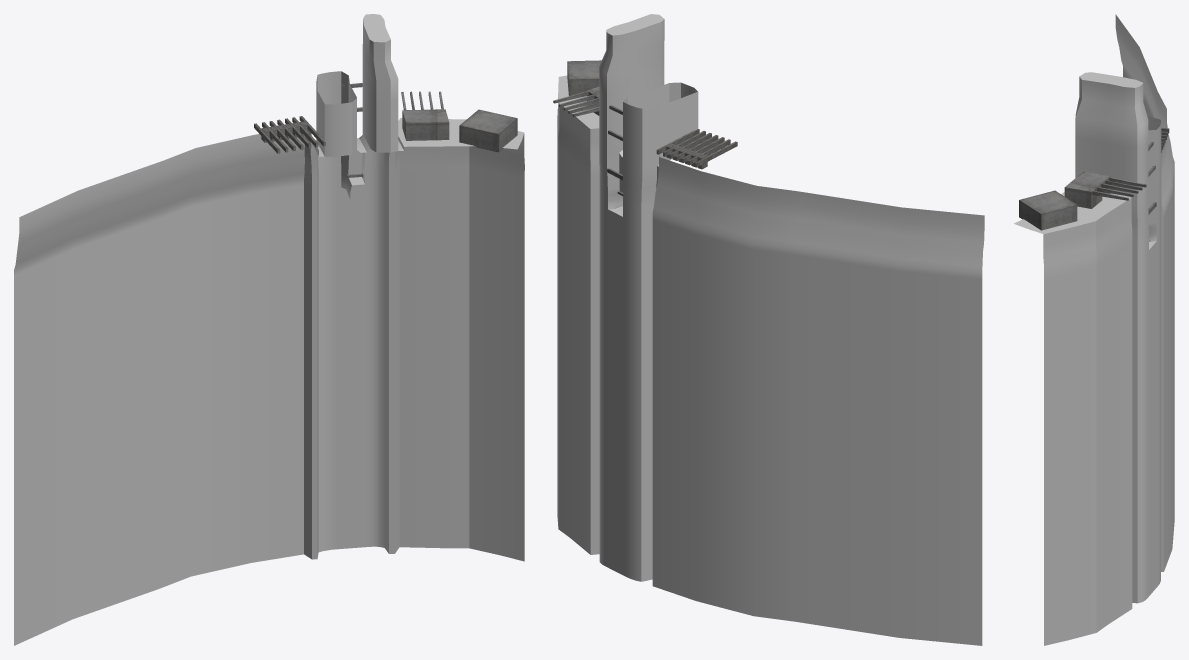
Rendered from SM_BetonDarme_01_03.fbx.
3 renders of one model, left to right at view 1: azimuth 30°, elevation 25°; view 2: azimuth 150°, elevation 25°; view 3: azimuth 270°, elevation 25°, orthographic. The views are drawn at different scales.
Visible parts, largest first — view 1: SM_BetonDarme_01_03; view 2: SM_BetonDarme_01_03; view 3: SM_BetonDarme_01_03.
Boxes of the visible parts, x1=… form: SM_BetonDarme_01_03: x1=14, y1=14, x2=524, y2=645; SM_BetonDarme_01_03: x1=553, y1=14, x2=984, y2=645; SM_BetonDarme_01_03: x1=1014, y1=14, x2=1174, y2=645.
Size of the model in its own units: 22293 by 24287 by 6914.
